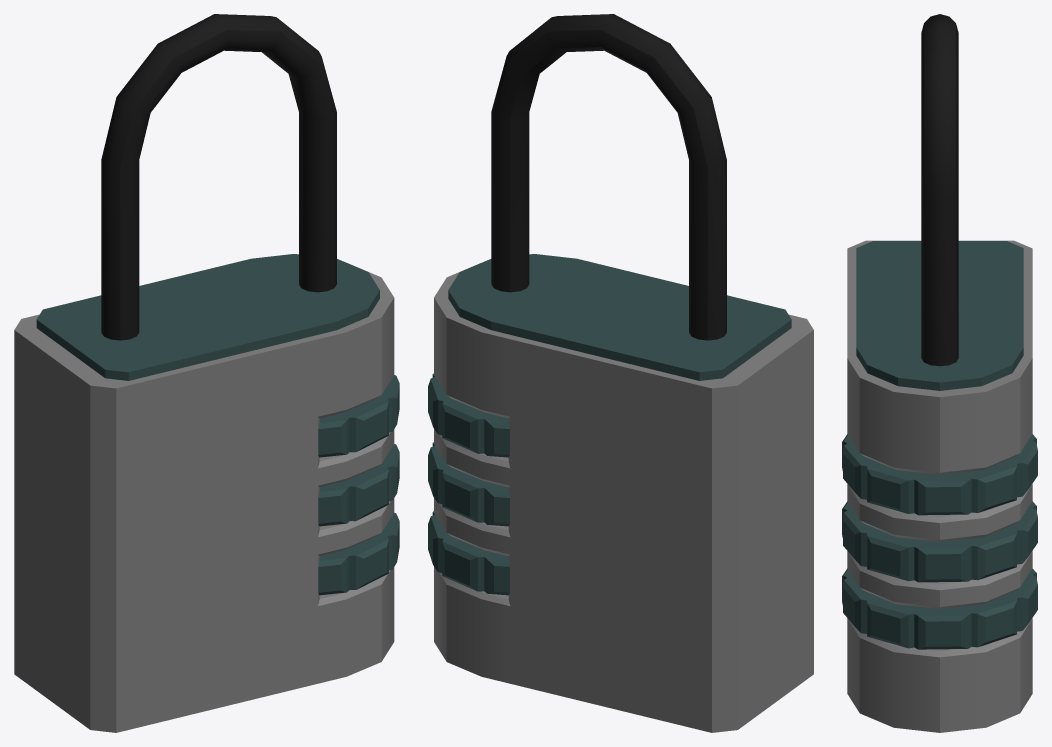
Rendered from Lock_Jarker.fbx.
3 renders of one model, left to right at view 1: azimuth 30°, elevation 25°; view 2: azimuth 150°, elevation 25°; view 3: azimuth 270°, elevation 25°, orthographic. The views are drawn at different scales.
Parts seen in each view (by area): view 1: body, ring; view 2: body, ring; view 3: body, ring.
Boxes of the visible parts, left/top/right/bottom form: body: left=14, top=254, right=399, bottom=732; ring: left=101, top=14, right=336, bottom=340; body: left=428, top=254, right=813, bottom=732; ring: left=491, top=14, right=726, bottom=340; body: left=842, top=240, right=1037, bottom=732; ring: left=921, top=14, right=958, bottom=366.
Size of the model in its own units: 4.05 by 7.51 by 2.12.
